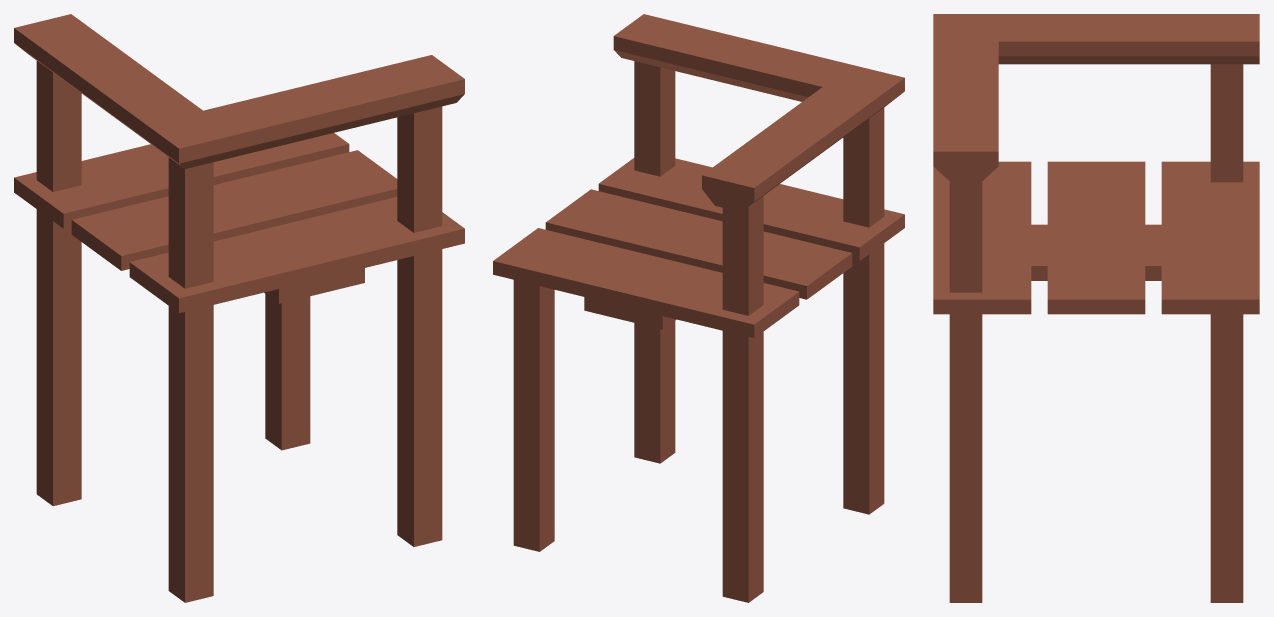
File: scaffold_small_medium_cornerRight 1.fbx
3 renders of one model, left to right at view 1: azimuth 30°, elevation 25°; view 2: azimuth 150°, elevation 25°; view 3: azimuth 270°, elevation 25°, orthographic. The views are drawn at different scales.
Parts seen in each view (by area): view 1: scaffold_small_medium_cornerRight; view 2: scaffold_small_medium_cornerRight; view 3: scaffold_small_medium_cornerRight.
Boxes of the visible parts, left/top/right/bottom form: scaffold_small_medium_cornerRight: left=14, top=14, right=464, bottom=602; scaffold_small_medium_cornerRight: left=493, top=14, right=904, bottom=602; scaffold_small_medium_cornerRight: left=933, top=14, right=1259, bottom=602.
Bounding box in the file's own units: 200 × 310 × 200.
